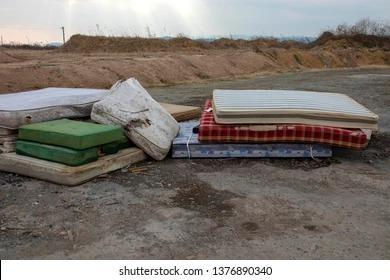Bed-Mattress: (190, 94, 375, 152), (87, 75, 182, 161), (213, 90, 379, 130), (0, 88, 109, 128)
